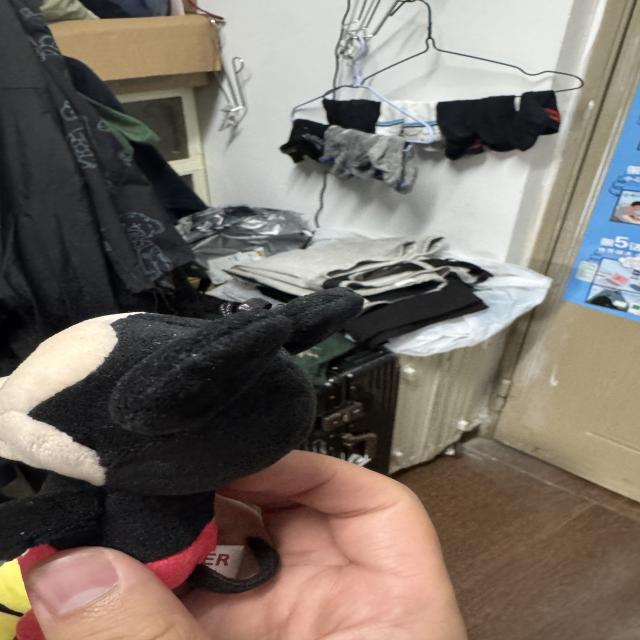mickey: (0, 289, 362, 592)
